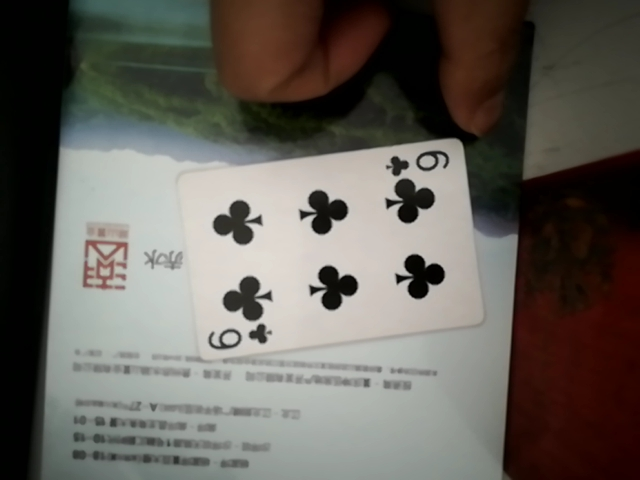mh 6: (164, 138, 489, 369)
